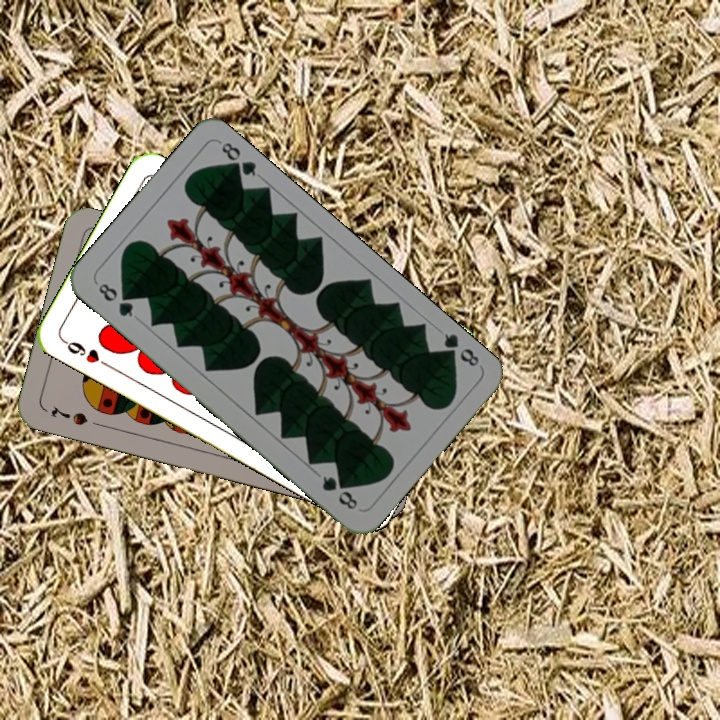G8: (436, 329, 482, 370), (94, 279, 136, 320)
H9: (59, 336, 113, 370)
S7: (47, 402, 91, 429)
